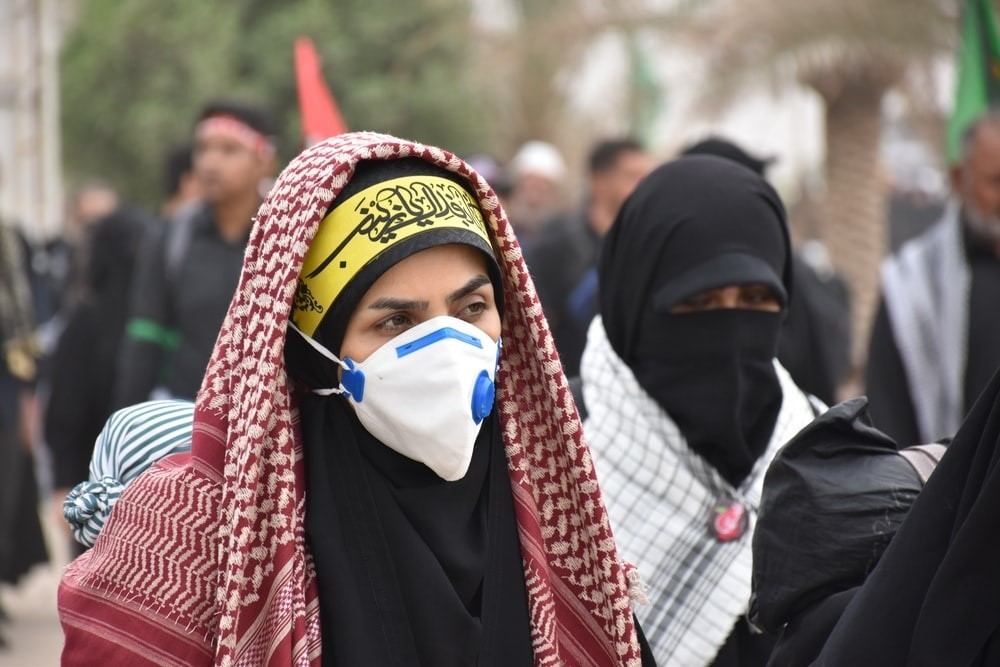face_with_mask: (210, 129, 559, 481)
